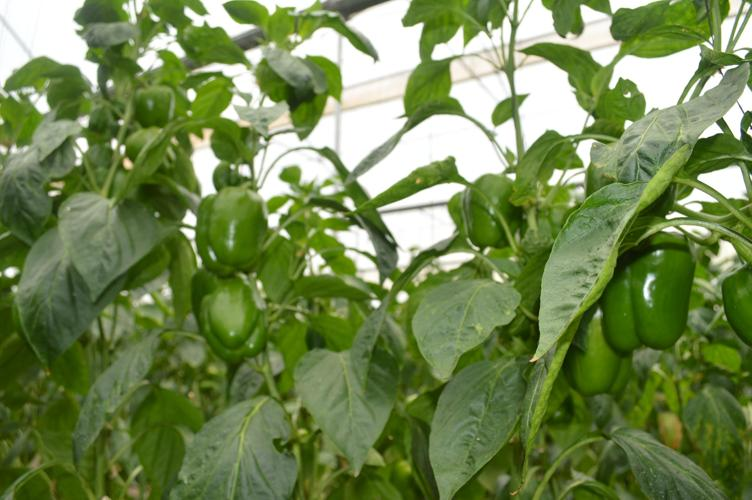BellPepper: (598, 237, 695, 350), (554, 310, 631, 401), (195, 189, 261, 279), (200, 285, 267, 364), (460, 172, 516, 251), (720, 268, 750, 340), (134, 83, 176, 124)
